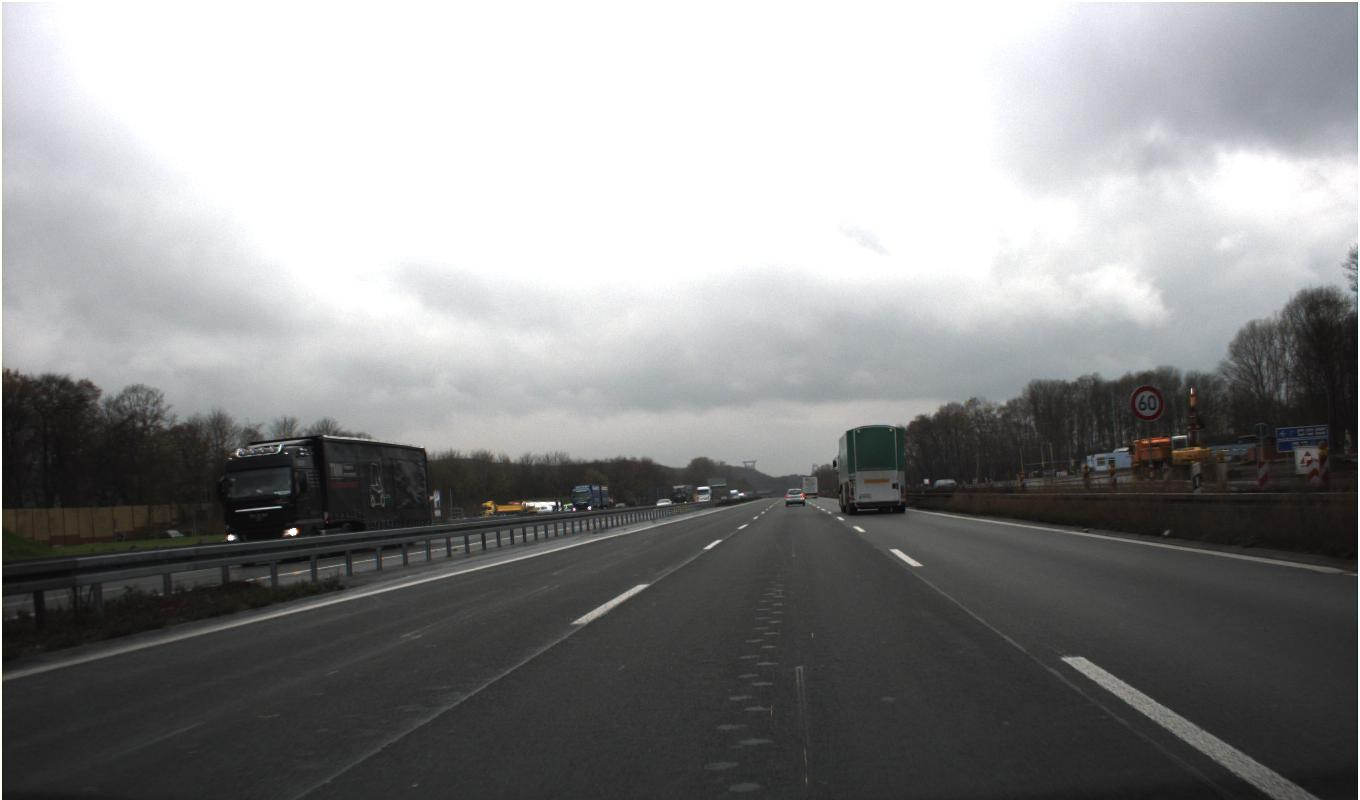prohibitory: (1129, 384, 1165, 422)
